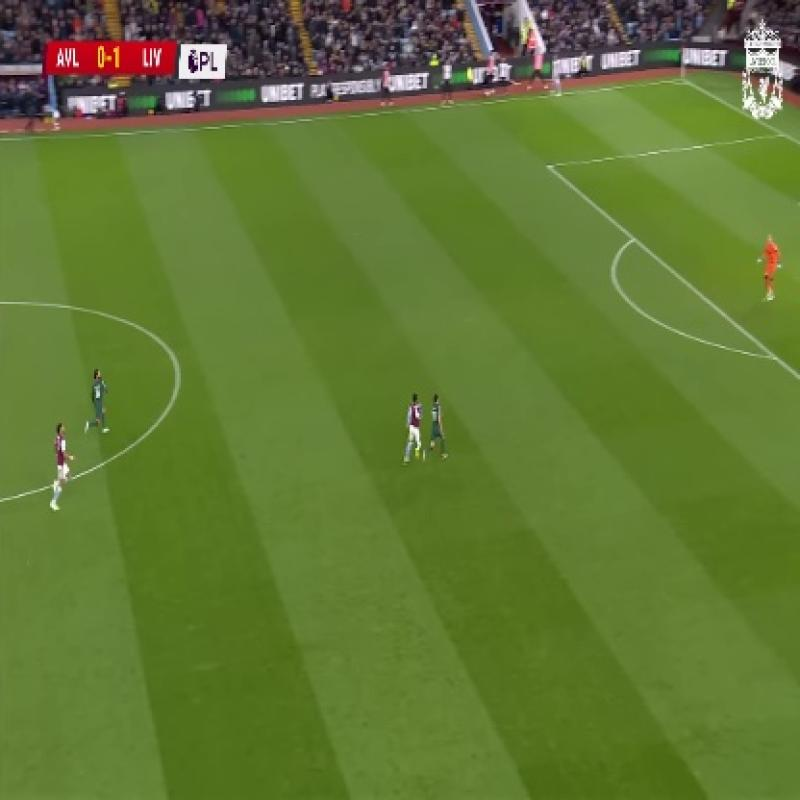1: (669, 71, 690, 89)
10: (623, 225, 642, 248)
11: (764, 342, 782, 368)
2: (772, 124, 790, 142)
9: (536, 152, 556, 177)
c: (158, 342, 200, 400)
